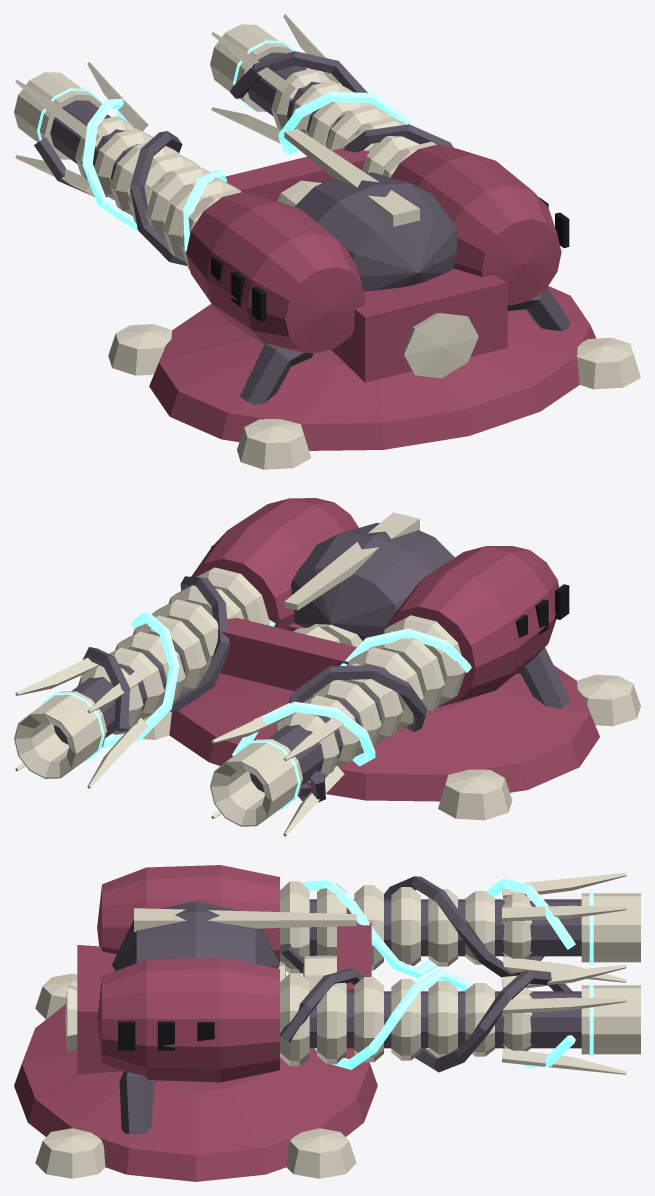
The model's file is item_gun_helix.glb.
3 renders of one model, top to bottom at view 1: azimuth 30°, elevation 25°; view 2: azimuth 150°, elevation 25°; view 3: azimuth 270°, elevation 25°, orthographic. The views are drawn at different scales.
Parts seen in each view (by area): view 1: item_gun_helix_Flesh, item_gun_helix_Bone, item_gun_helix_Sinew, item_gun_helix_Glow, item_gun_helix_Bore; view 2: item_gun_helix_Flesh, item_gun_helix_Bone, item_gun_helix_Sinew, item_gun_helix_Glow, item_gun_helix_Bore; view 3: item_gun_helix_Flesh, item_gun_helix_Bone, item_gun_helix_Sinew, item_gun_helix_Glow, item_gun_helix_Bore.
Boxes of the visible parts, <box> form: item_gun_helix_Flesh: <box>149,144,596,450</box>; item_gun_helix_Bone: <box>14,14,640,469</box>; item_gun_helix_Sinew: <box>34,51,570,404</box>; item_gun_helix_Glow: <box>37,40,411,251</box>; item_gun_helix_Bore: <box>211,197,569,321</box>; item_gun_helix_Flesh: <box>169,498,599,801</box>; item_gun_helix_Bone: <box>14,512,640,836</box>; item_gun_helix_Sinew: <box>53,523,570,802</box>; item_gun_helix_Glow: <box>37,612,471,809</box>; item_gun_helix_Bore: <box>211,545,569,637</box>; item_gun_helix_Flesh: <box>14,865,377,1181</box>; item_gun_helix_Bone: <box>35,872,640,1178</box>; item_gun_helix_Sinew: <box>112,876,581,1133</box>; item_gun_helix_Glow: <box>302,878,593,1069</box>; item_gun_helix_Bore: <box>118,1021,214,1050</box>.
Bounding box in the file's own units: 0.92 × 0.39 × 1.27.
